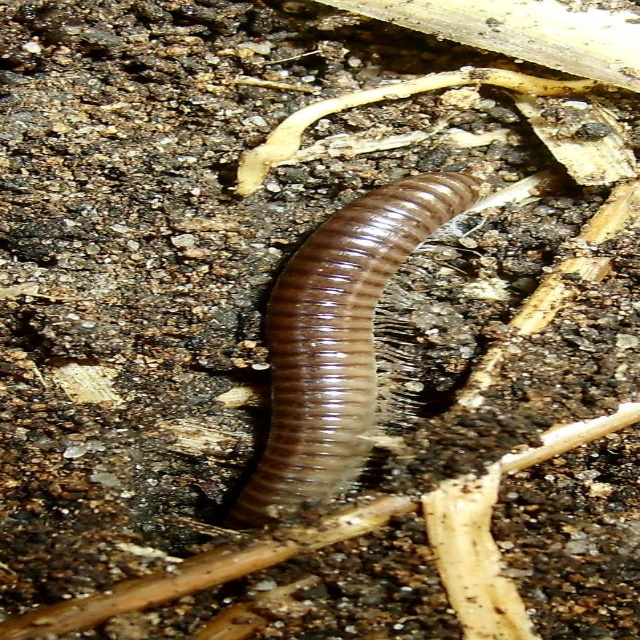Centipede: (187, 167, 508, 538)
